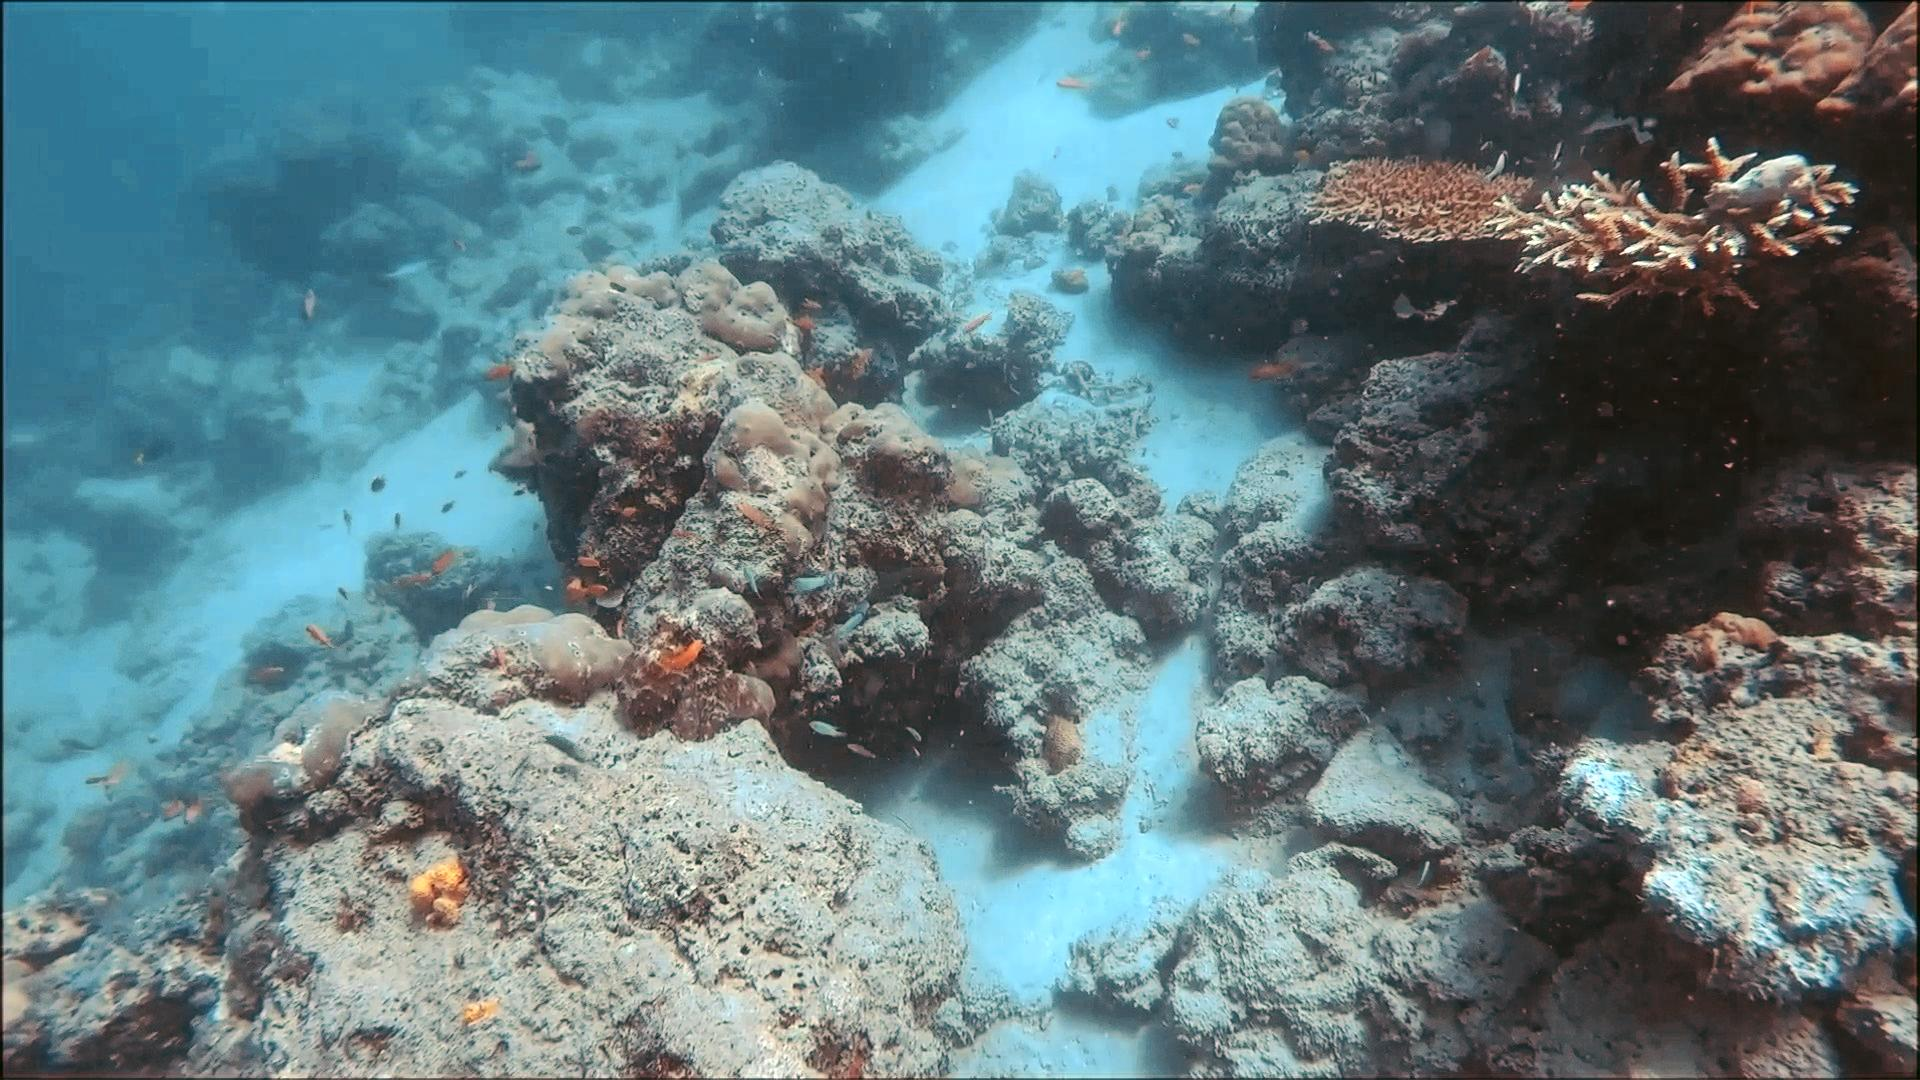Porites-Porites pukoensis: (657, 257, 874, 566)
